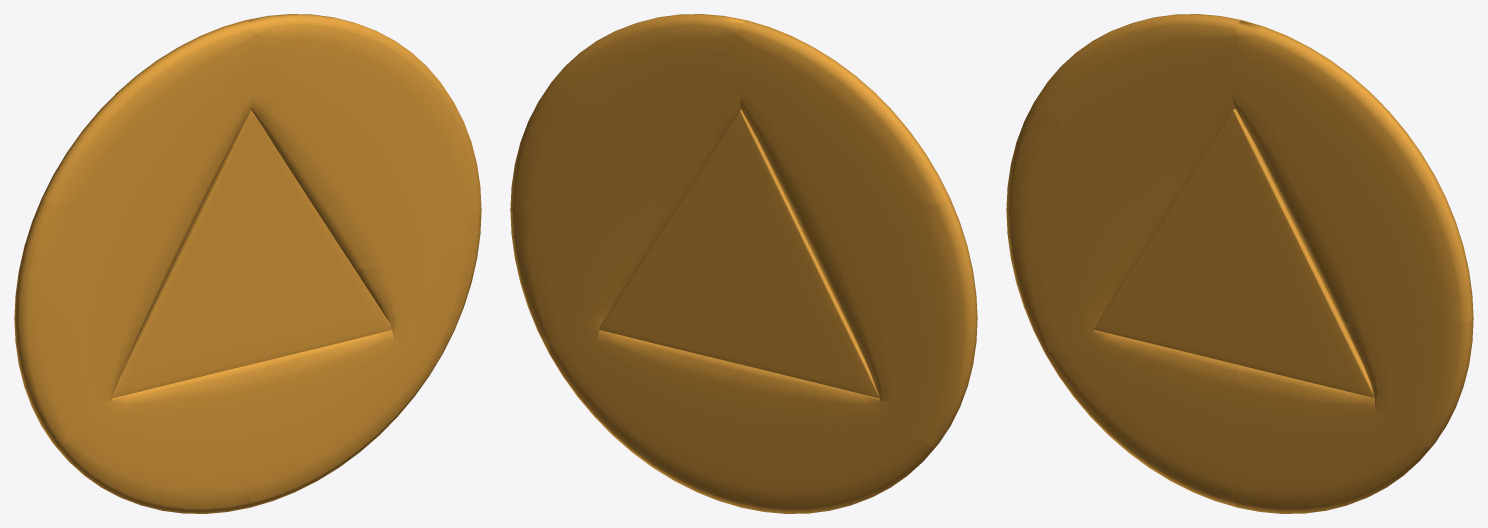
The model's file is candy2.fbx.
3 renders of one model, left to right at view 1: azimuth 30°, elevation 25°; view 2: azimuth 150°, elevation 25°; view 3: azimuth 330°, elevation 25°, orthographic.
Visible parts, largest first — view 1: Цилиндр.003, Цилиндр, Цилиндр.007, Цилиндр.006, Цилиндр.005, Куб.002, Куб, Цилиндр.004, Куб.001; view 2: Цилиндр.003, Цилиндр, Цилиндр.007, Цилиндр.006, Цилиндр.005, Куб.002, Куб, Цилиндр.004, Куб.001; view 3: Цилиндр.003, Цилиндр, Цилиндр.007, Цилиндр.005, Цилиндр.006, Куб.002, Куб, Цилиндр.004, Куб.001.
Boxes of the visible parts, x1,y1,x2,y2 form: Цилиндр.003: [245, 14, 481, 269]; Цилиндр: [42, 20, 257, 242]; Цилиндр.007: [14, 198, 184, 447]; Цилиндр.006: [54, 364, 264, 513]; Цилиндр.005: [243, 330, 442, 507]; Куб.002: [250, 172, 392, 362]; Куб: [150, 110, 291, 313]; Цилиндр.004: [355, 210, 481, 353]; Куб.001: [112, 290, 258, 398]; Цилиндр.003: [510, 14, 746, 269]; Цилиндр: [734, 20, 949, 242]; Цилиндр.007: [807, 198, 977, 447]; Цилиндр.006: [727, 364, 937, 513]; Цилиндр.005: [549, 330, 748, 507]; Куб.002: [599, 172, 741, 362]; Куб: [700, 110, 841, 313]; Цилиндр.004: [510, 210, 636, 353]; Куб.001: [733, 290, 879, 398]; Цилиндр.003: [1226, 20, 1473, 331]; Цилиндр: [1034, 14, 1241, 207]; Цилиндр.007: [1006, 103, 1170, 353]; Цилиндр.005: [1224, 365, 1433, 513]; Цилиндр.006: [1045, 326, 1245, 507]; Куб.002: [1231, 189, 1374, 397]; Куб: [1134, 109, 1276, 307]; Цилиндр.004: [1342, 314, 1473, 447]; Куб.001: [1094, 265, 1239, 364].
Size of the model in its own units: 600 by 600 by 25.96.
